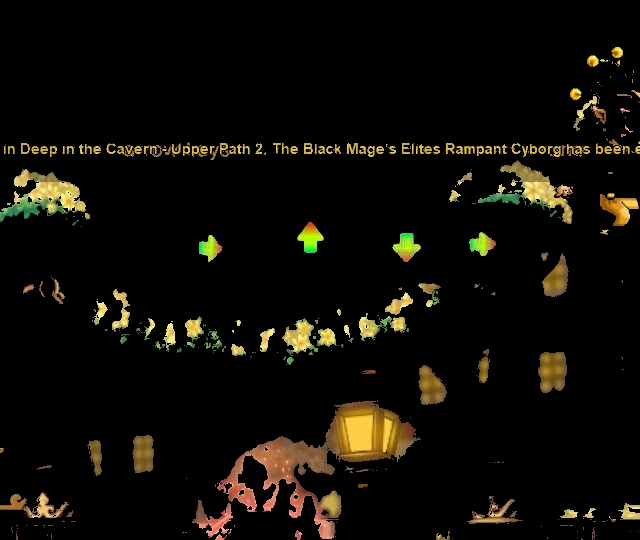down: (383, 226, 426, 269)
right: (460, 222, 501, 262), (190, 227, 230, 265)
up: (286, 214, 331, 264)
